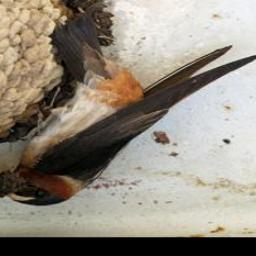Swallow: (0, 43, 256, 207)
